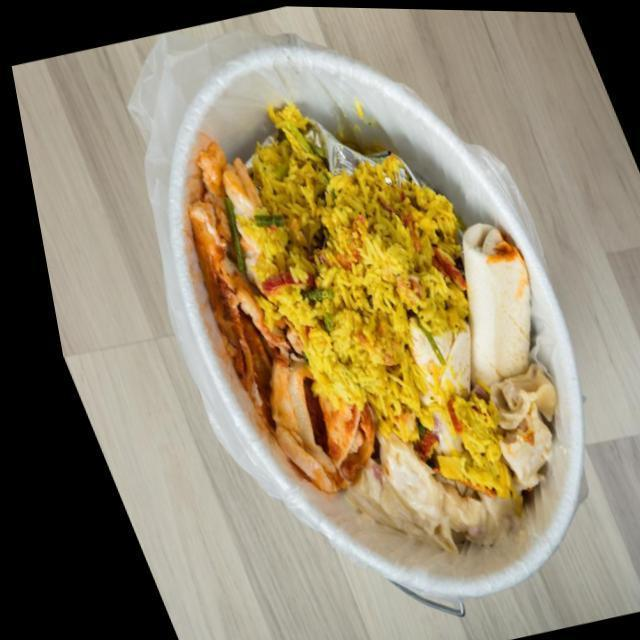Garbage: (173, 55, 559, 582)
Plastic_wraper: (306, 117, 384, 174), (392, 157, 425, 185)
